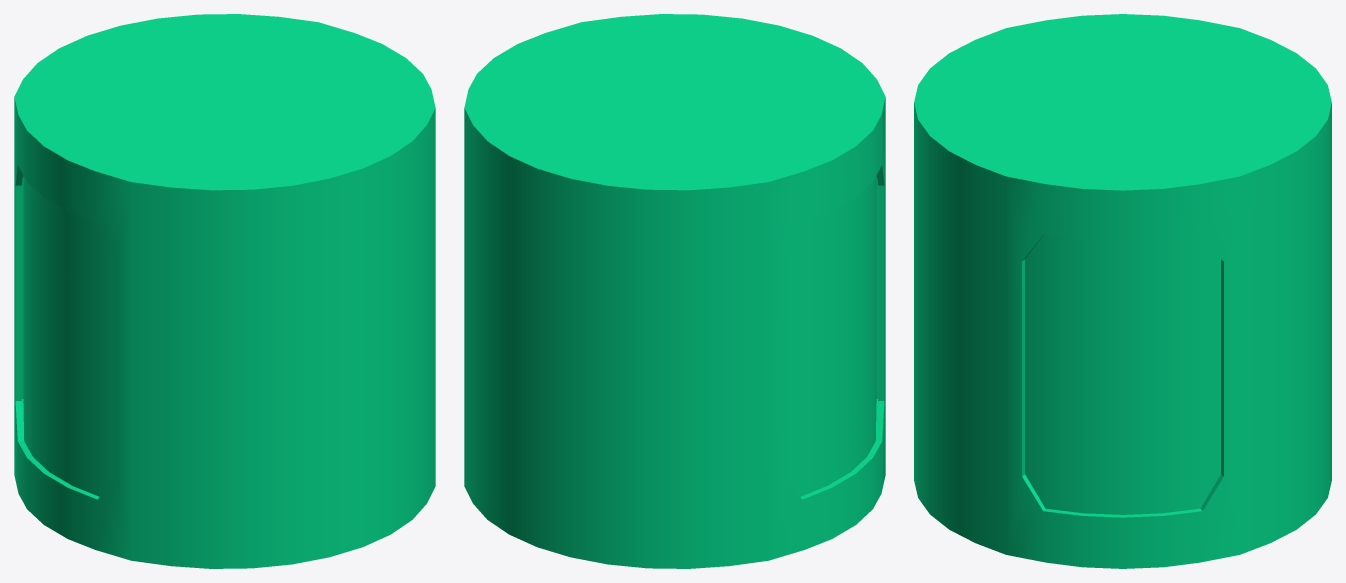
File: Elevator.fbx
3 views of the same model, side by side, from view 1: azimuth 30°, elevation 25°; view 2: azimuth 150°, elevation 25°; view 3: azimuth 270°, elevation 25° (orthographic).
Parts seen in each view (by area): view 1: Elevator_Outer, Elevator_Inner; view 2: Elevator_Outer, Elevator_Inner; view 3: Elevator_Outer, Elevator_Inner.
Part boxes in pixels (left/top/right/bottom): Elevator_Outer: left=14, top=14, right=435, bottom=568; Elevator_Inner: left=23, top=175, right=116, bottom=496; Elevator_Outer: left=464, top=14, right=885, bottom=568; Elevator_Inner: left=783, top=175, right=876, bottom=496; Elevator_Outer: left=914, top=14, right=1331, bottom=568; Elevator_Inner: left=1025, top=235, right=1220, bottom=514.
Bounding box in the file's own units: 14.01 × 14 × 14.01.
